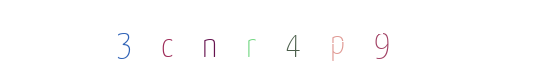3: (85, 0, 165, 80)
4: (241, 0, 321, 80)
9: (267, 0, 347, 80)
C: (168, 0, 248, 80)
N: (226, 0, 306, 80)
P: (246, 0, 326, 80)
R: (227, 0, 307, 80)
